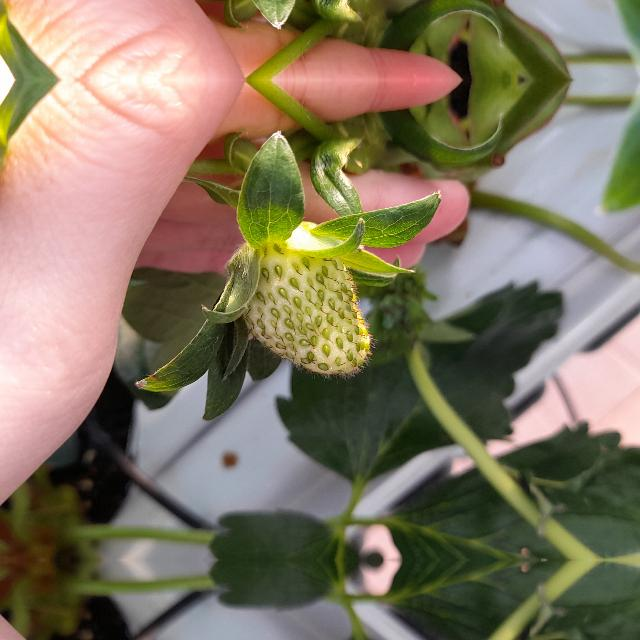Health_25: (242, 240, 370, 376)
